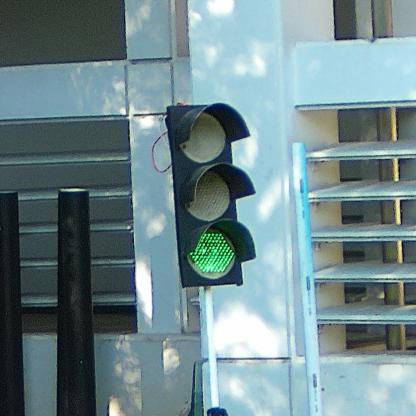green: (167, 104, 257, 290)
